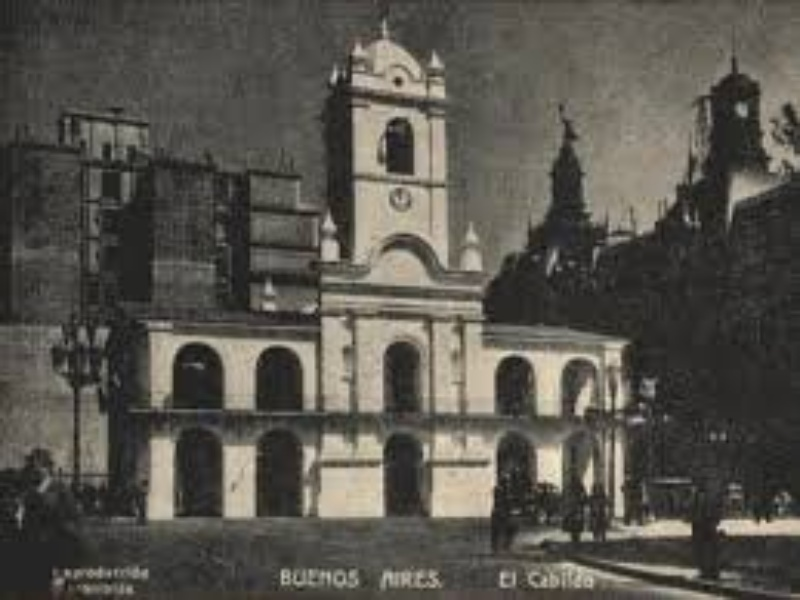cabildo: (103, 7, 650, 528)
